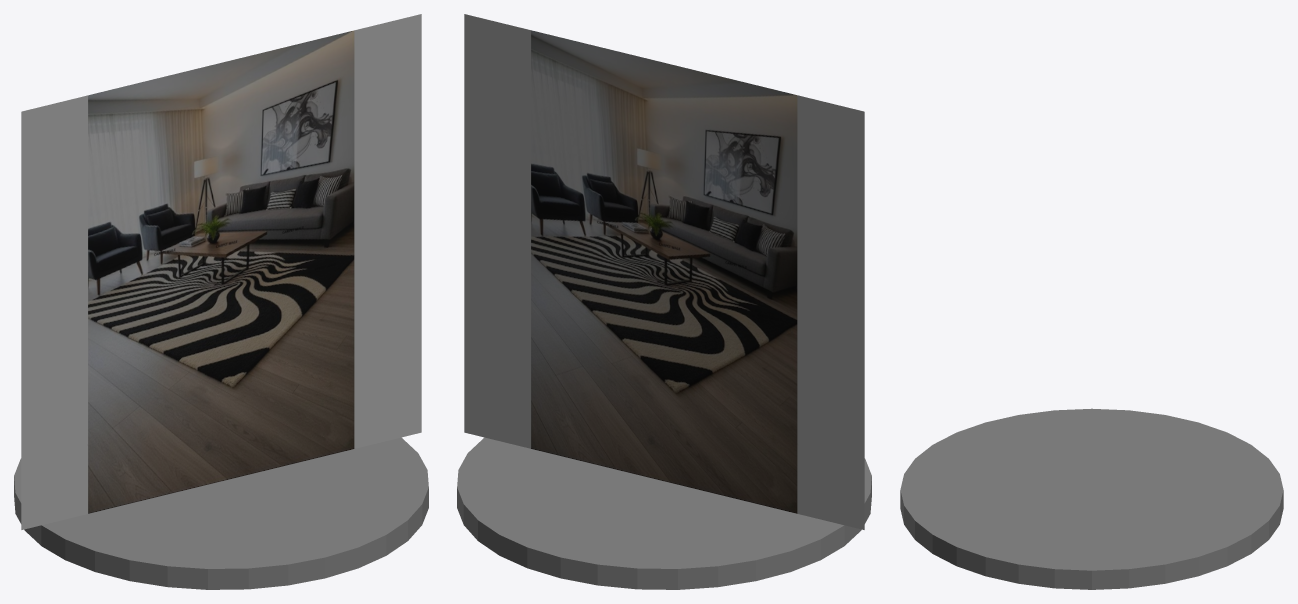
3 renders of one model, left to right at view 1: azimuth 30°, elevation 25°; view 2: azimuth 150°, elevation 25°; view 3: azimuth 270°, elevation 25°, orthographic. The views are drawn at different scales.
Parts seen in each view (by area): view 1: photo, base; view 2: photo, base; view 3: base.
Boxes of the visible parts, left/top/right/bottom form: photo: left=21, top=14, right=421, bottom=529; base: left=14, top=437, right=428, bottom=589; photo: left=464, top=14, right=864, bottom=529; base: left=457, top=437, right=871, bottom=589; base: left=900, top=408, right=1283, bottom=589.
Bounding box in the file's own units: 0.4 × 0.42 × 0.36.
1 material, 1 textured.
